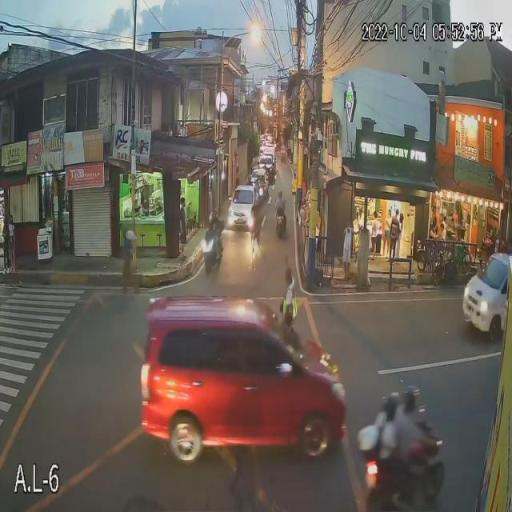helmet: (377, 389, 402, 421), (401, 382, 422, 411)
motorcycle: (373, 423, 437, 512), (194, 239, 224, 274), (270, 214, 289, 238)
rider: (400, 380, 436, 498), (375, 392, 401, 479), (207, 208, 226, 246), (270, 190, 290, 214)
